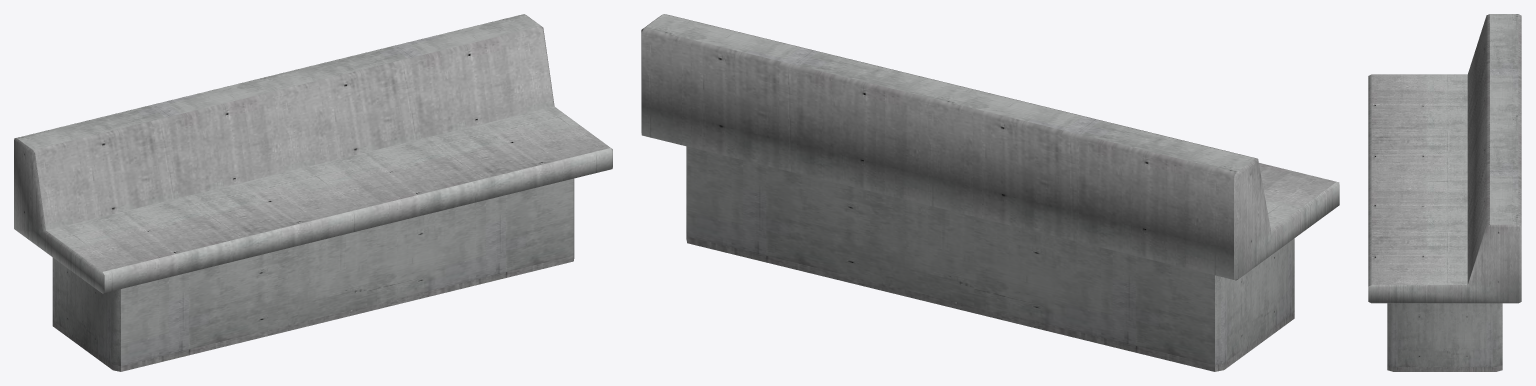
File: CementSeating_bench.fbx
3 renders of one model, left to right at view 1: azimuth 30°, elevation 25°; view 2: azimuth 150°, elevation 25°; view 3: azimuth 270°, elevation 25°, orthographic. The views are drawn at different scales.
Parts seen in each view (by area): view 1: cementBackAndSeat, cementBase; view 2: cementBackAndSeat, cementBase; view 3: cementBackAndSeat, cementBase.
Boxes of the visible parts, box(x1,y1,x2,y2) form: cementBackAndSeat: box(14, 14, 612, 293); cementBase: box(52, 178, 574, 371); cementBackAndSeat: box(641, 14, 1339, 280); cementBase: box(686, 146, 1294, 371); cementBackAndSeat: box(1368, 14, 1521, 303); cementBase: box(1387, 303, 1502, 371).
Size of the model in its own units: 3.06 by 1.05 by 0.935.
